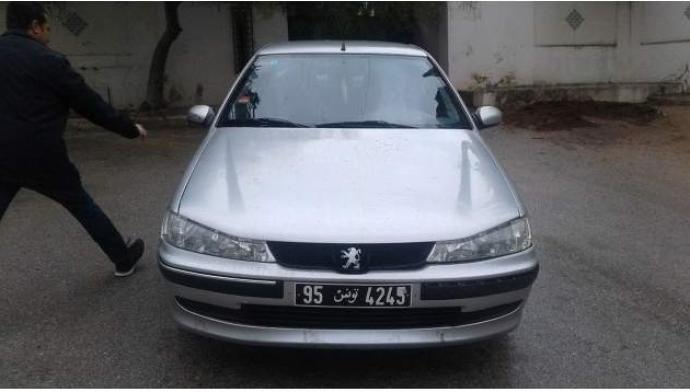LP: (291, 281, 418, 307)
